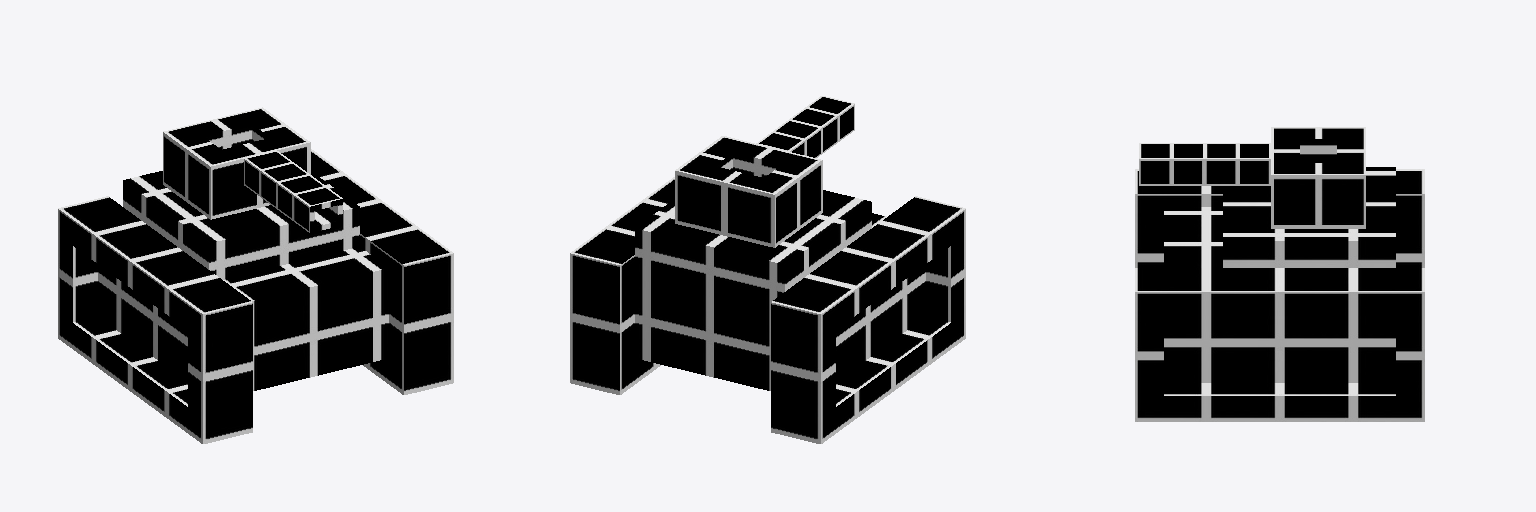
3 views of the same model, side by side, from view 1: azimuth 30°, elevation 25°; view 2: azimuth 150°, elevation 25°; view 3: azimuth 270°, elevation 25° (orthographic).
Visible parts, largest first — view 1: Tonk; view 2: Tonk; view 3: Tonk.
Part boxes in pixels (bbox=[...]): Tonk: bbox=[58, 107, 453, 443]; Tonk: bbox=[570, 96, 965, 443]; Tonk: bbox=[1135, 127, 1424, 421].
Bounding box in the file's own units: 0.99 × 0.79 × 0.99.
1 materials, 1 textured.